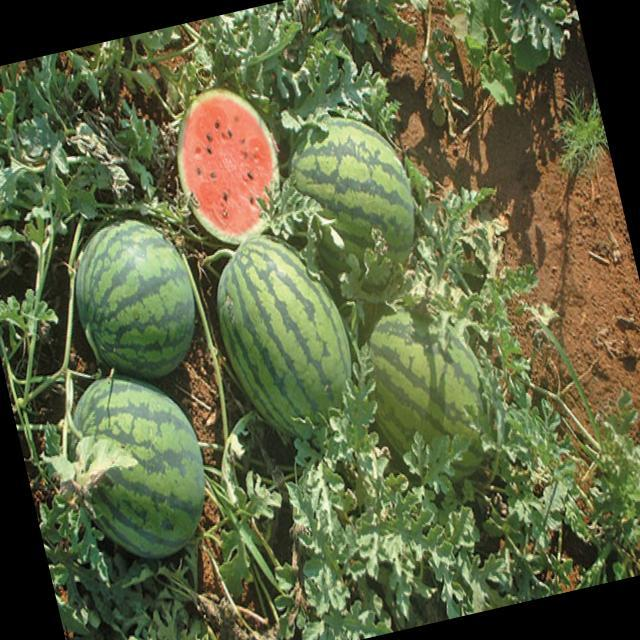WATERMELON: (53, 362, 227, 576), (202, 228, 369, 450), (342, 275, 504, 477), (61, 206, 218, 390), (284, 95, 426, 287), (159, 80, 291, 256)
